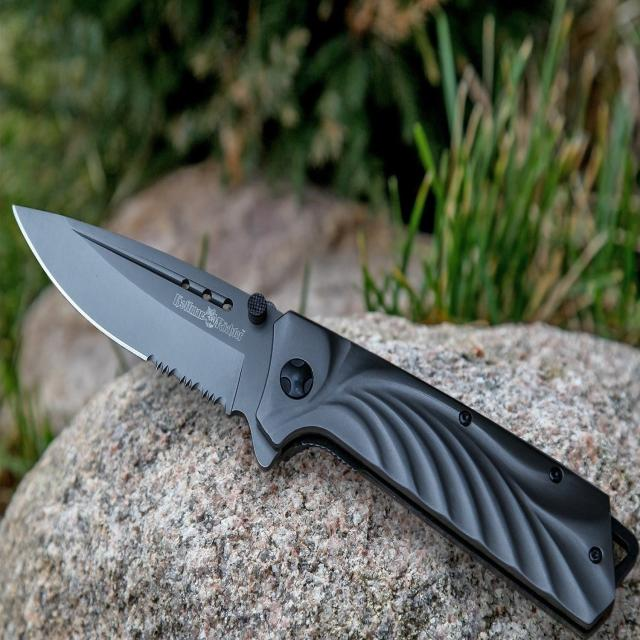knife: (12, 187, 625, 635)
